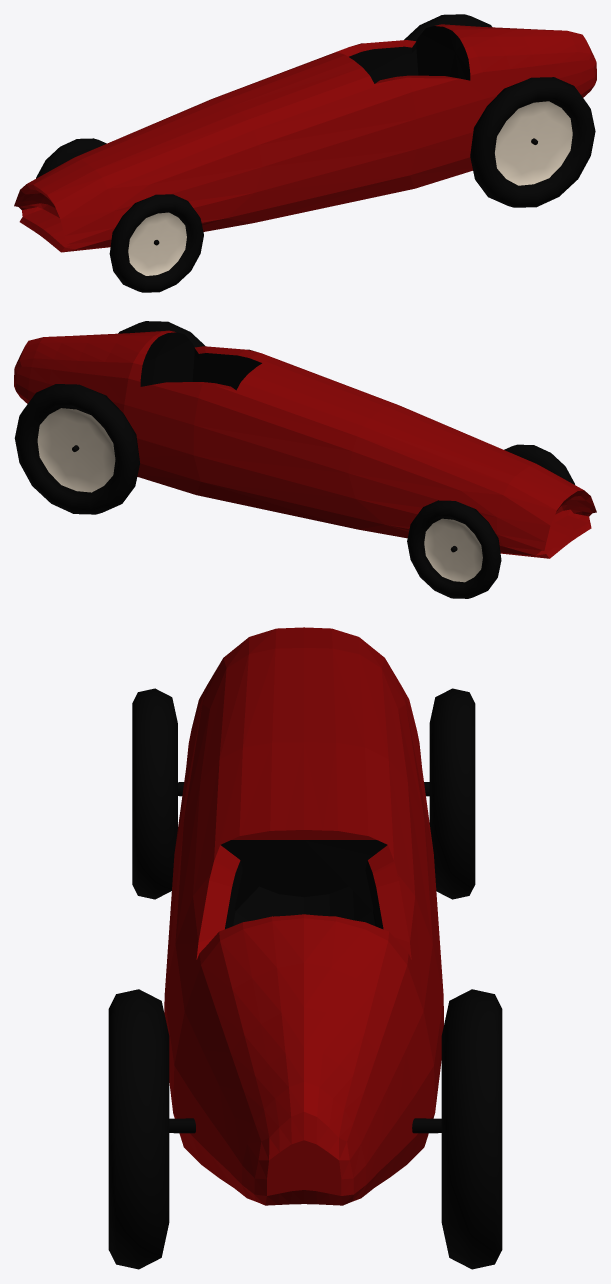
The model's file is maya2sketchfab.fbx.
The picture shows the model from 3 angles, top to bottom: view 1: azimuth 30°, elevation 25°; view 2: azimuth 150°, elevation 25°; view 3: azimuth 270°, elevation 25°; orthographic projection. The views are drawn at different scales.
Visible parts, largest first — view 1: pCube2, pCylinder2, pCylinder1, pCylinder4, pCylinder3; view 2: pCube2, pCylinder3, pCylinder4, pCylinder1, pCylinder2; view 3: pCube2, pCylinder2, pCylinder3, pCylinder4, pCylinder1, pCylinder6.
Part boxes in pixels (x1,y1,x2,y2): pCube2: (14,24,596,252); pCylinder2: (470,77,595,207); pCylinder1: (109,194,203,292); pCylinder4: (36,138,106,178); pCylinder3: (404,14,492,41); pCube2: (14,330,596,558); pCylinder3: (14,384,139,514); pCylinder4: (407,500,501,598); pCylinder1: (504,444,574,484); pCylinder2: (118,321,205,347); pCube2: (164,627,443,1205); pCylinder2: (108,989,169,1269); pCylinder3: (441,989,502,1269); pCylinder4: (429,688,475,899); pCylinder1: (132,688,177,899); pCylinder6: (169,1118,441,1133).
Size of the model in its own units: 4.05 by 1.08 by 1.26.
